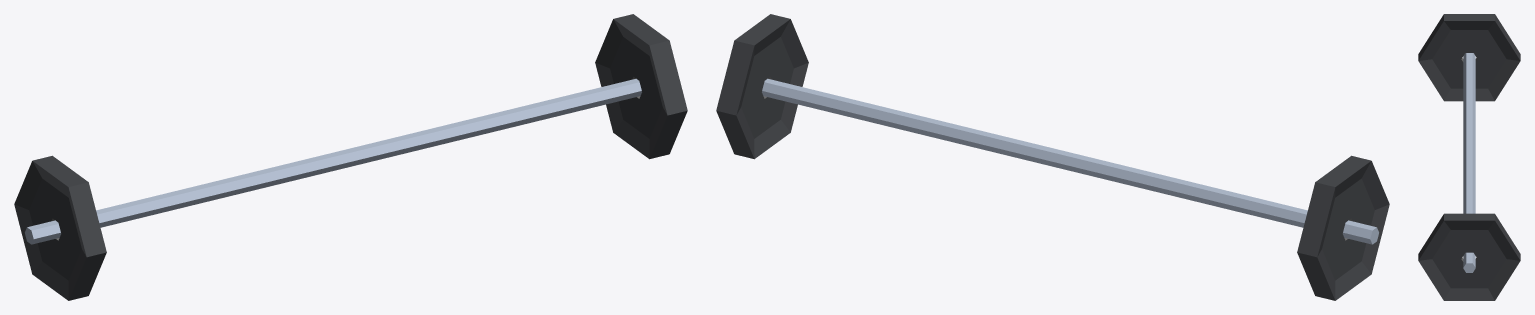
File: Bar 1.fbx
The picture shows the model from 3 angles, left to right: view 1: azimuth 30°, elevation 25°; view 2: azimuth 150°, elevation 25°; view 3: azimuth 270°, elevation 25°; orthographic projection. The views are drawn at different scales.
Visible parts, largest first — view 1: bar 1; view 2: bar 1; view 3: bar 1.
Part boxes in pixels (box(x1,y1,x2,y2)): bar 1: box(14, 14, 687, 300); bar 1: box(716, 14, 1389, 300); bar 1: box(1418, 14, 1520, 300).
Size of the model in its own units: 220 by 37.17 by 42.93.
